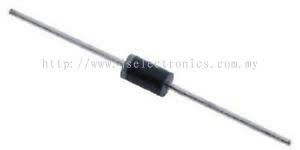diode: (76, 14, 215, 138)
